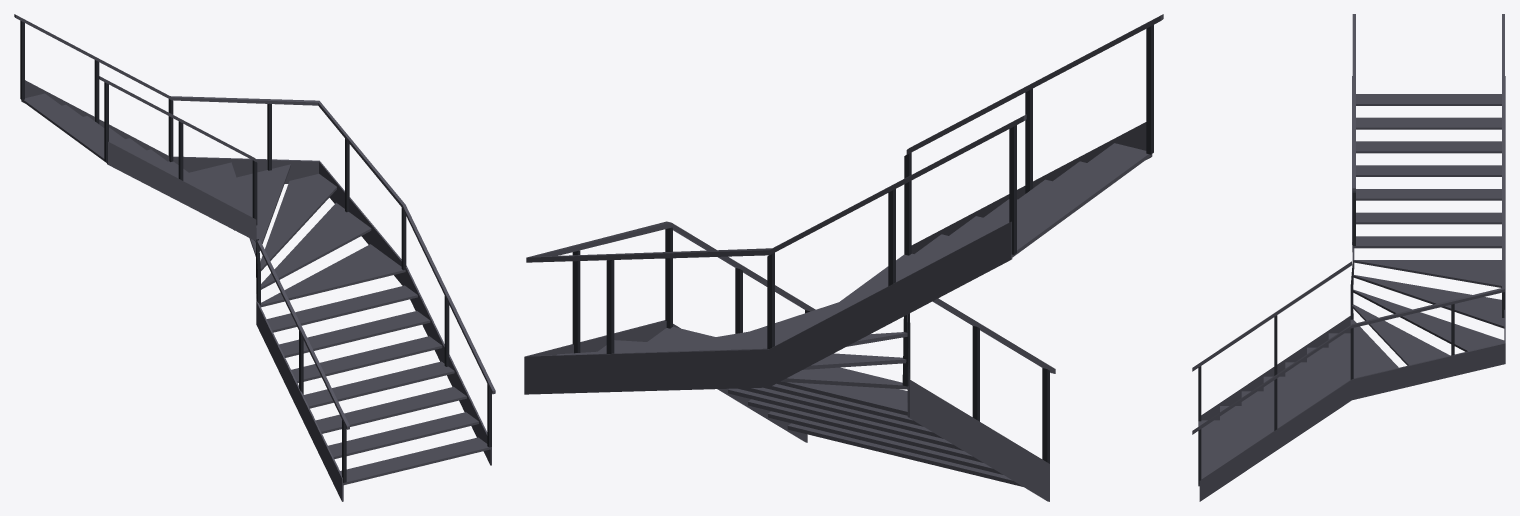
File: metalStairs_corner.glb
3 renders of one model, left to right at view 1: azimuth 30°, elevation 25°; view 2: azimuth 150°, elevation 25°; view 3: azimuth 270°, elevation 25°, orthographic. The views are drawn at different scales.
Parts seen in each view (by area): view 1: Stair_metal_corner; view 2: Stair_metal_corner; view 3: Stair_metal_corner.
Part boxes in pixels (<box>): Stair_metal_corner: <box>14,14,495,501</box>; Stair_metal_corner: <box>524,14,1163,501</box>; Stair_metal_corner: <box>1192,14,1505,501</box>.
Size of what is drawn, in the model's own units: 4.12 by 5.15 by 4.12.
1 material, 1 textured.
